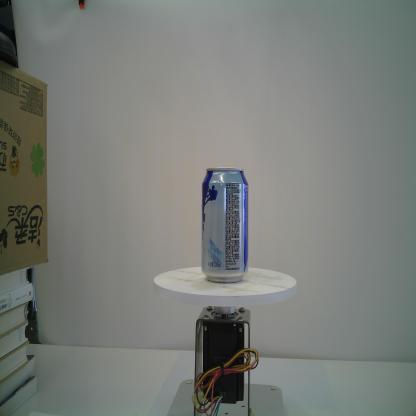Alcohol: (199, 164, 251, 286)
